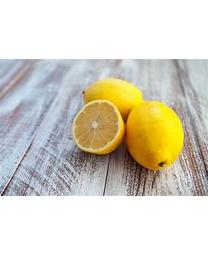lemon: (126, 103, 184, 168), (72, 99, 124, 155), (81, 76, 144, 115)
